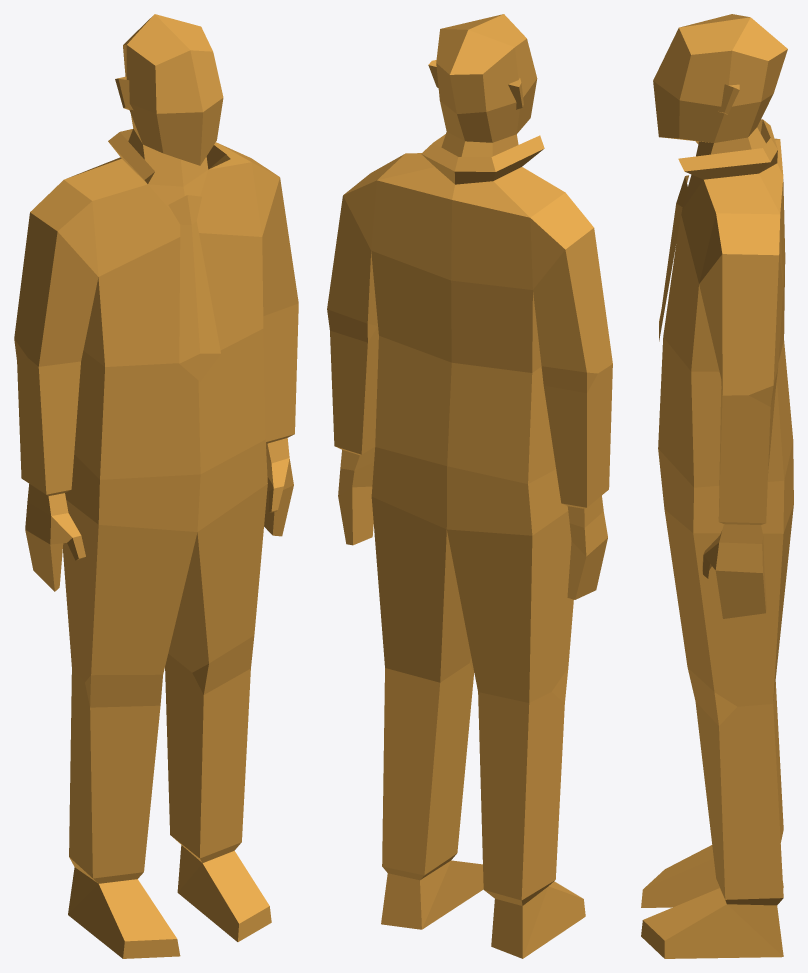
The model's file is man-tie-bold.fbx.
The picture shows the model from 3 angles, left to right: view 1: azimuth 30°, elevation 25°; view 2: azimuth 150°, elevation 25°; view 3: azimuth 270°, elevation 25°; orthographic projection.
Parts seen in each view (by area): view 1: man-tie-bold; view 2: man-tie-bold; view 3: man-tie-bold.
Part boxes in pixels (x1,y1,x2,y2): man-tie-bold: (14,14,298,958); man-tie-bold: (327,14,612,958); man-tie-bold: (641,14,793,958).
Size of the model in its own units: 0.5438 by 1.79 by 0.2741.
